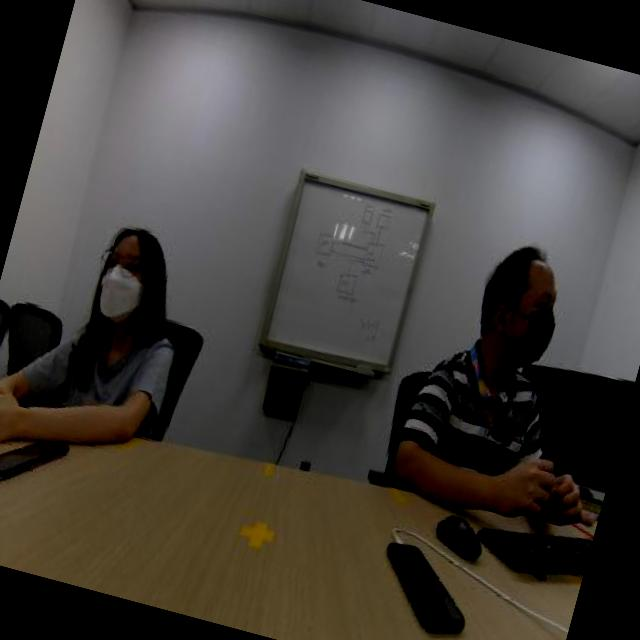Person: (389, 192, 616, 496), (16, 147, 226, 434)
